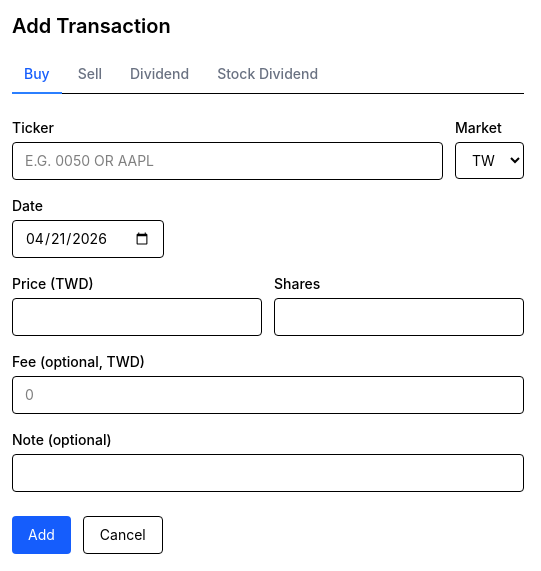
Test: AddTransaction › auto-detects US market for alphabetic ticker
Type "AAPL" into the field with placeholder "e.g. 0050 or AAPL".
click(228, 161); type("AAPL")  # box [12,142,443,180]
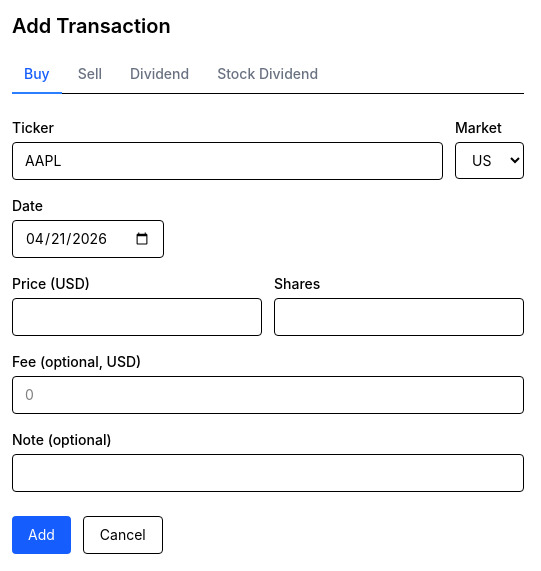
Expected: the dropdown shows "US", [455,142,524,179]
